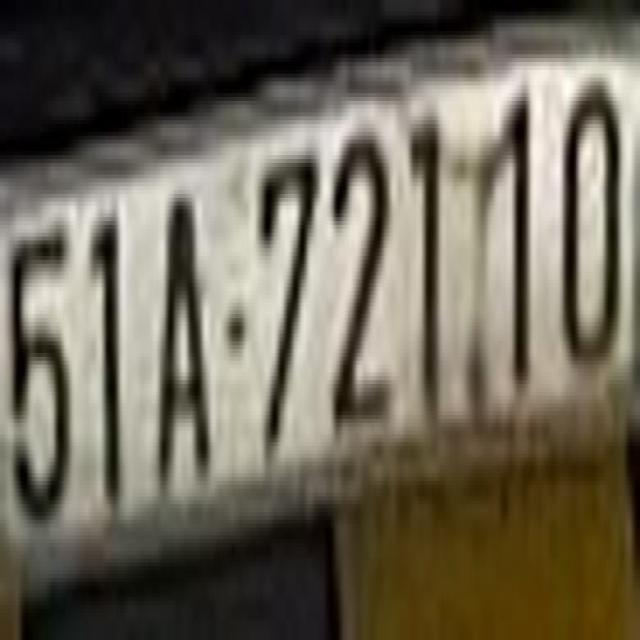0: (560, 58, 622, 388)
1: (492, 68, 538, 401), (408, 85, 449, 423), (88, 194, 128, 516)
2: (330, 114, 393, 440)
5: (9, 207, 73, 534)
7: (256, 134, 319, 456)
A: (153, 171, 213, 488)
